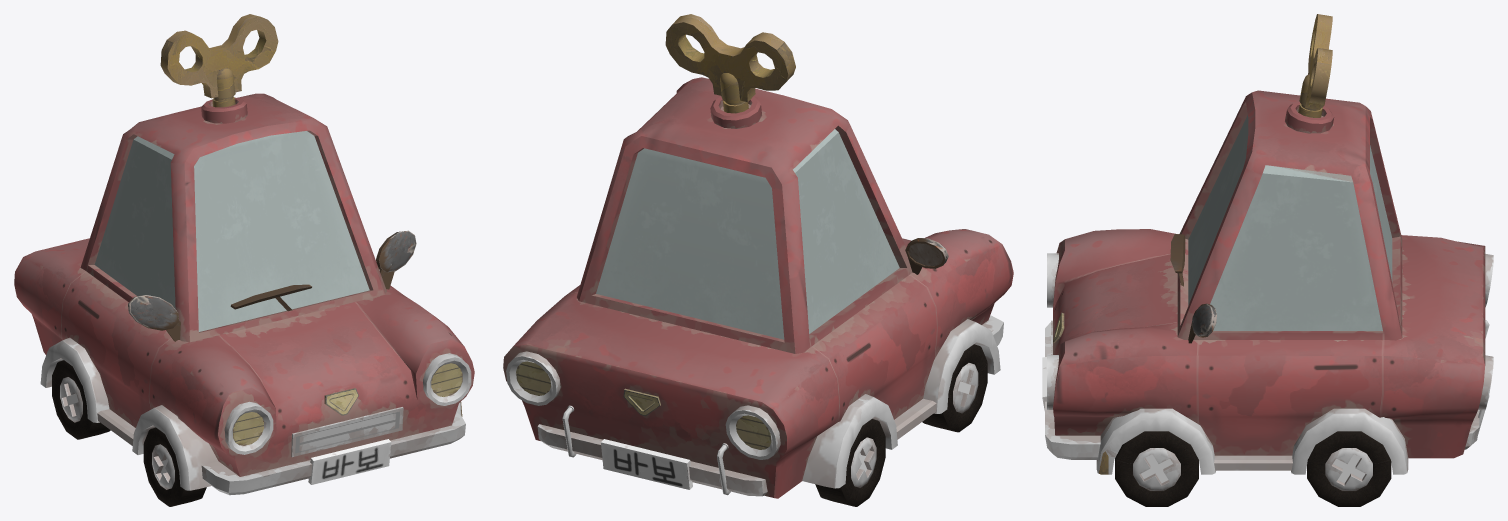
Rendered from P_car1.fbx.
3 views of the same model, side by side, from view 1: azimuth 30°, elevation 25°; view 2: azimuth 150°, elevation 25°; view 3: azimuth 270°, elevation 25° (orthographic). The views are drawn at different scales.
Visible parts, largest first — view 1: P_car1_001, P_car1_002, P_car1_003, P_car1_004; view 2: P_car1_001, P_car1_002, P_car1_004, P_car1_003; view 3: P_car1_001, P_car1_003, P_car1_004, P_car1_002.
Boxes of the visible parts, left/top/right/bottom form: P_car1_001: left=14, top=93, right=474, bottom=495; P_car1_002: left=160, top=14, right=278, bottom=107; P_car1_003: left=143, top=427, right=206, bottom=506; P_car1_004: left=52, top=360, right=110, bottom=439; P_car1_001: left=503, top=77, right=1013, bottom=498; P_car1_002: left=665, top=14, right=795, bottom=113; P_car1_004: left=815, top=419, right=885, bottom=506; P_car1_003: left=922, top=344, right=987, bottom=432; P_car1_001: left=1042, top=90, right=1493, bottom=474; P_car1_003: left=1115, top=431, right=1198, bottom=506; P_car1_004: left=1307, top=431, right=1391, bottom=506; P_car1_002: left=1298, top=14, right=1332, bottom=117.
Bounding box in the file's own units: 10.66 × 13.82 × 13.91.
